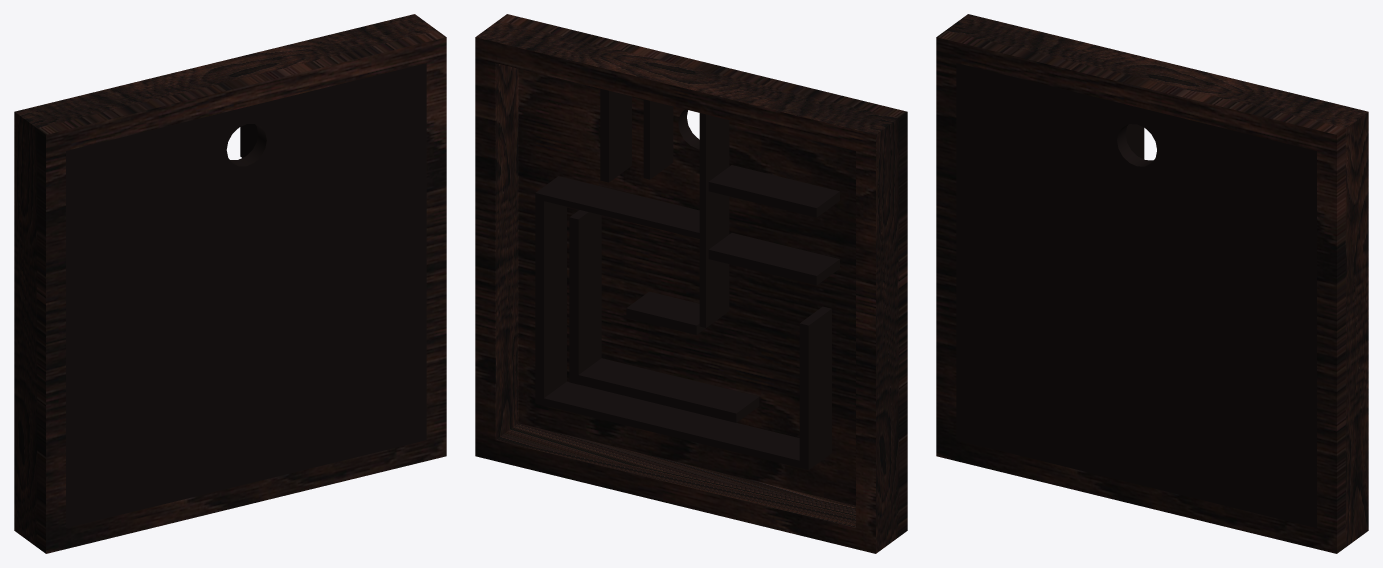
The model's file is Tablet.fbx.
3 views of the same model, side by side, from view 1: azimuth 30°, elevation 25°; view 2: azimuth 150°, elevation 25°; view 3: azimuth 330°, elevation 25° (orthographic).
Parts seen in each view (by area): view 1: Tablet; view 2: Tablet; view 3: Tablet.
Part boxes in pixels (bbox=[...]): Tablet: bbox=[14, 14, 446, 553]; Tablet: bbox=[475, 14, 907, 553]; Tablet: bbox=[936, 14, 1368, 553].
Bounding box in the file's own units: 4 × 4 × 0.5488.
Materials: 1 (1 with a texture image).
